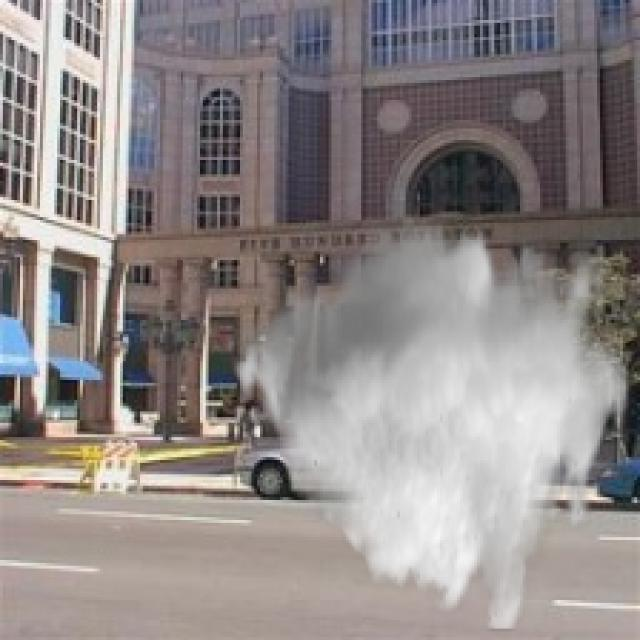smoke: (226, 214, 628, 632)
